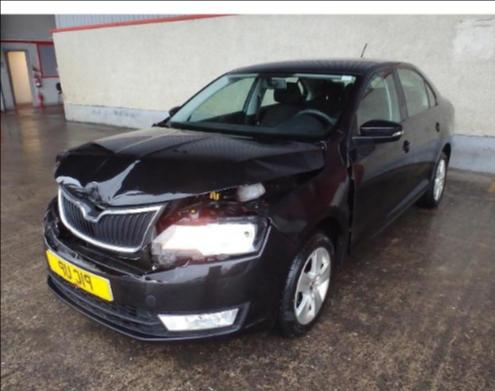Broken part: (54, 156, 331, 245), (265, 130, 357, 268), (43, 200, 145, 277), (58, 185, 166, 252), (149, 214, 266, 267)
Dent: (55, 157, 190, 205), (237, 150, 327, 184), (65, 141, 112, 158)
